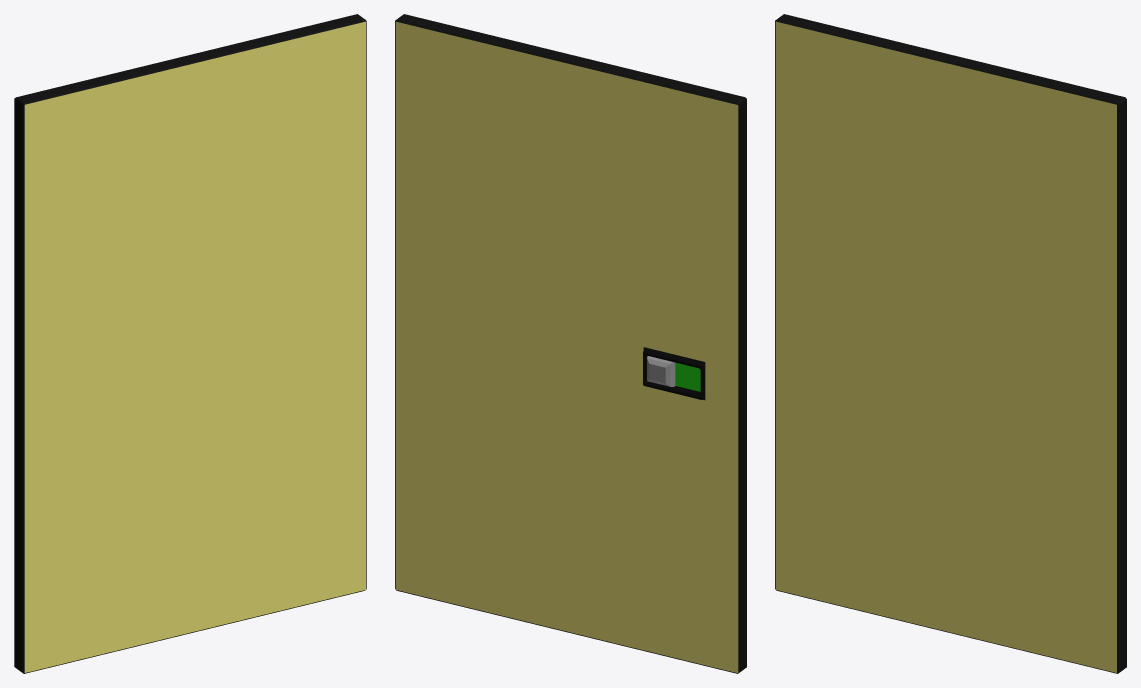
The model's file is toilet-door.glb.
3 renders of one model, left to right at view 1: azimuth 30°, elevation 25°; view 2: azimuth 150°, elevation 25°; view 3: azimuth 330°, elevation 25°, orthographic.
Parts seen in each view (by area): view 1: toiletdoor; view 2: toiletdoor; view 3: toiletdoor.
Boxes of the visible parts, left/top/right/bottom form: toiletdoor: left=14, top=14, right=366, bottom=673; toiletdoor: left=395, top=14, right=746, bottom=673; toiletdoor: left=775, top=14, right=1126, bottom=673.
Size of the model in its own units: 1.67 by 2.65 by 0.1115.
Materials: 2 (2 with a texture image).
